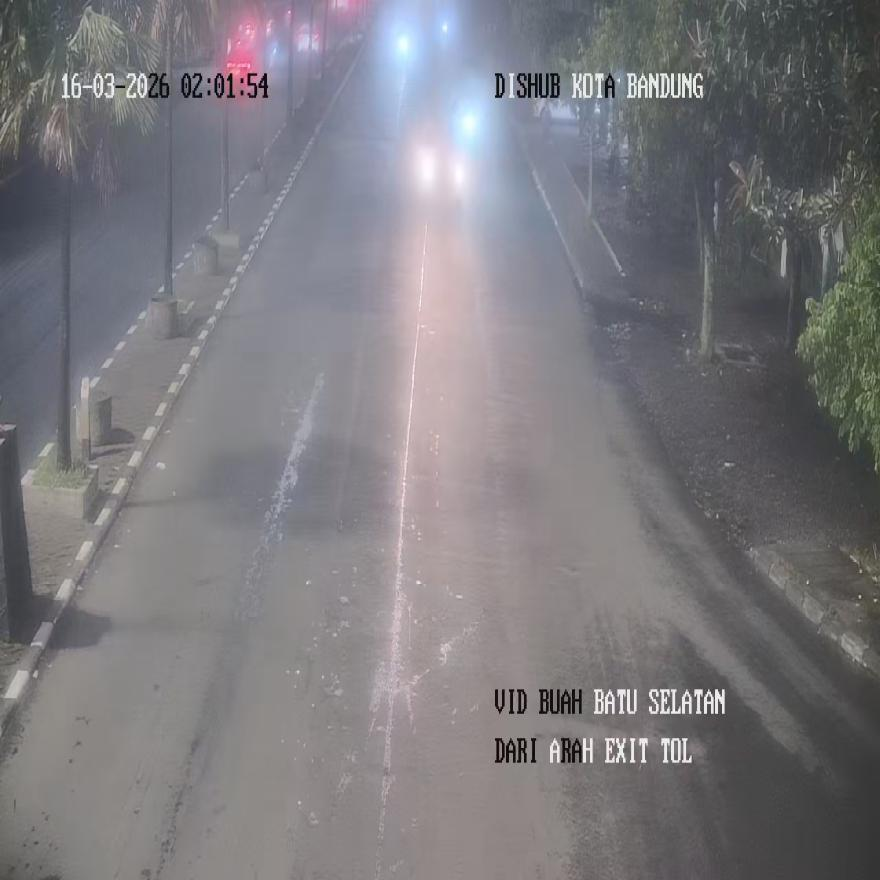Mobil: (418, 130, 467, 211)
